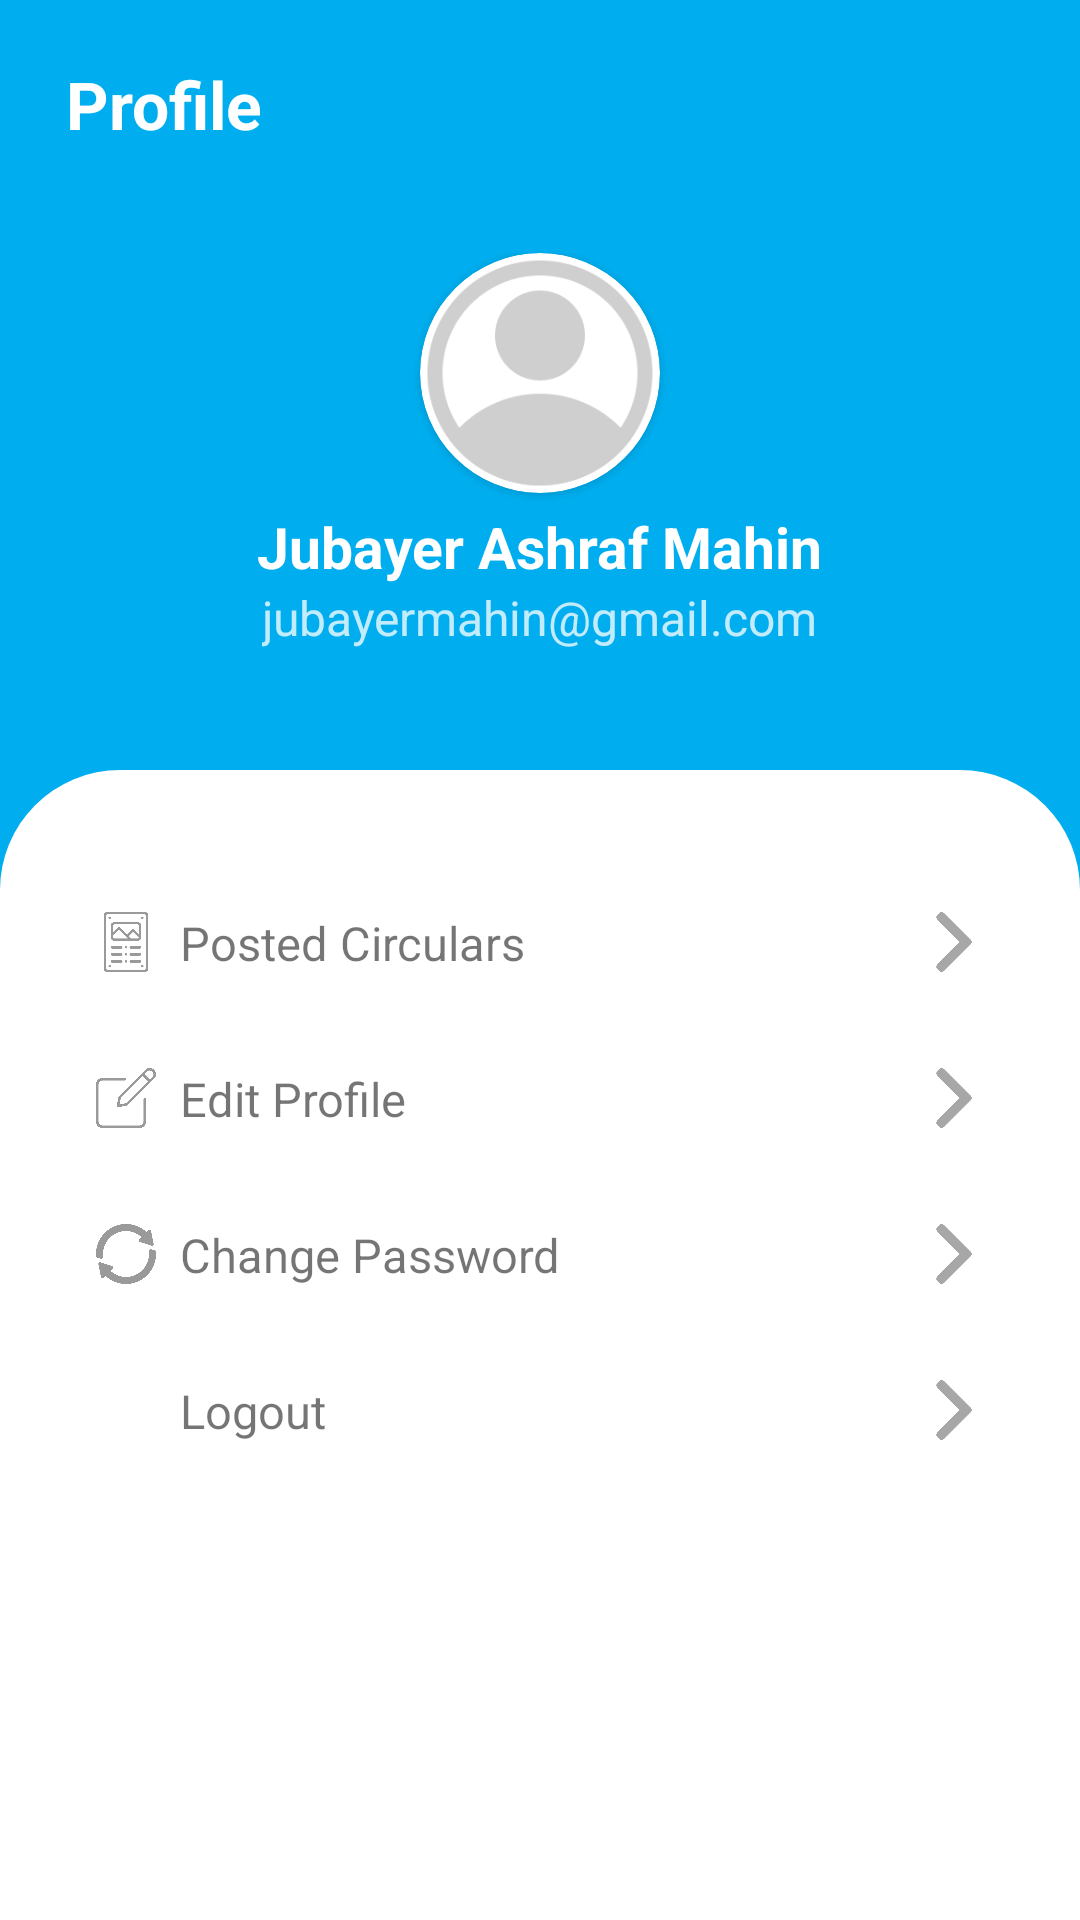

Screen size 1080px×1920px. Icon name, then its center in pixels as point (x, y):
profile pic: point (540, 373)
refresh: point (126, 1254)
right arrow: point (954, 942), point (954, 1098), point (954, 1254), point (954, 1410)
